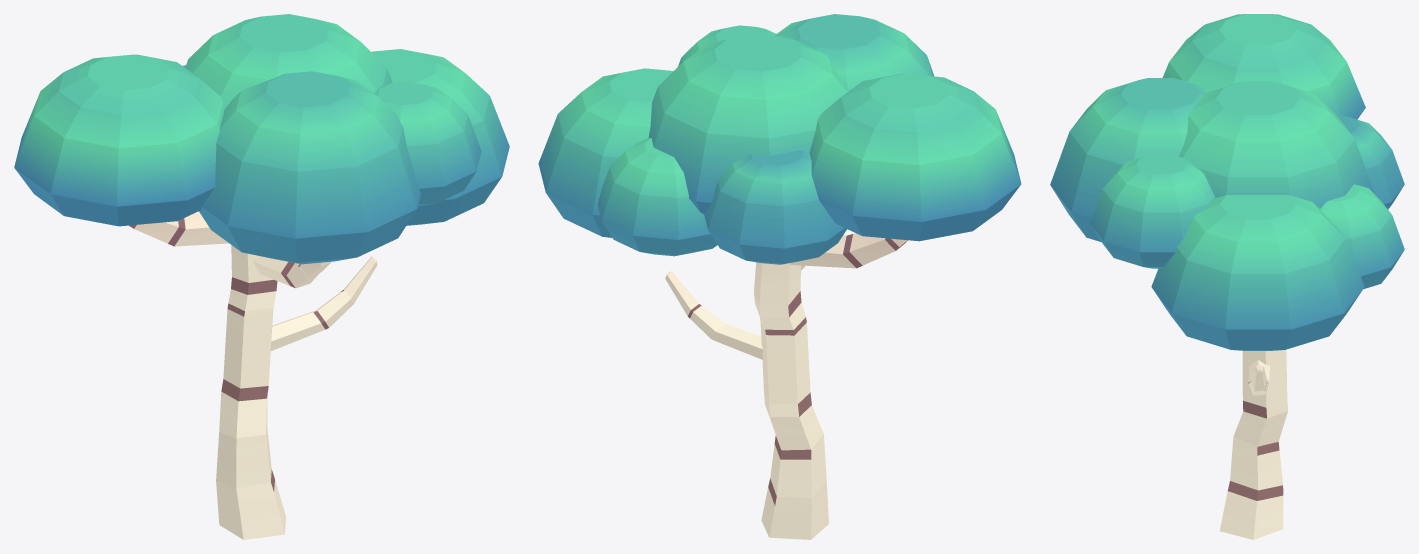
Rendered from birch_g.glb.
3 renders of one model, left to right at view 1: azimuth 30°, elevation 25°; view 2: azimuth 150°, elevation 25°; view 3: azimuth 270°, elevation 25°, orthographic. The views are drawn at different scales.
Parts seen in each view (by area): view 1: Birch.001; view 2: Birch.001; view 3: Birch.001.
Part boxes in pixels (x1,y1,x2,y2): Birch.001: (14, 14, 509, 539); Birch.001: (538, 14, 1021, 539); Birch.001: (1050, 14, 1404, 539).
Size of the model in its own units: 3.47 by 3.48 by 2.53.
Materials: 1 (1 with a texture image).
